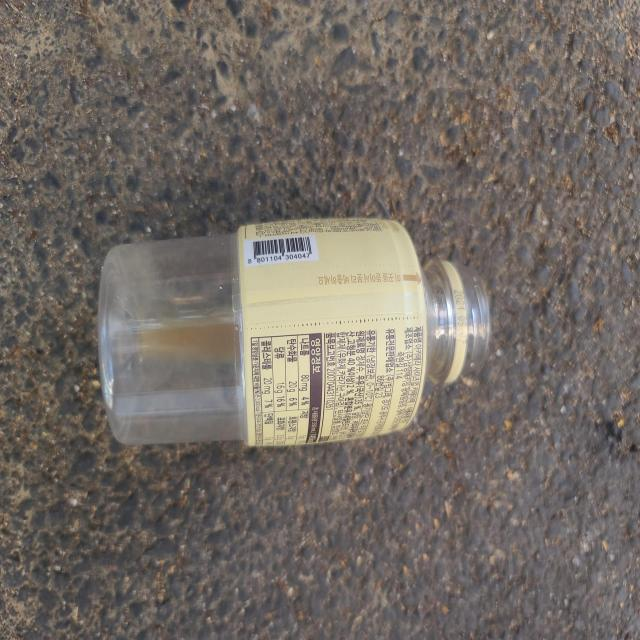plastic: (98, 219, 491, 446)
